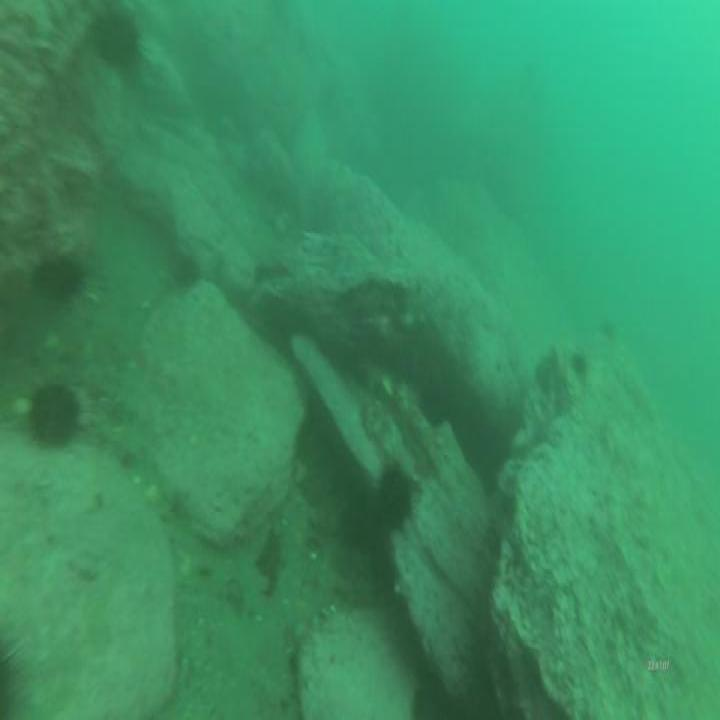echinus: (87, 0, 146, 80), (24, 379, 83, 455), (371, 452, 419, 538), (0, 622, 34, 720), (45, 249, 88, 307), (166, 240, 205, 293), (569, 348, 590, 382)
